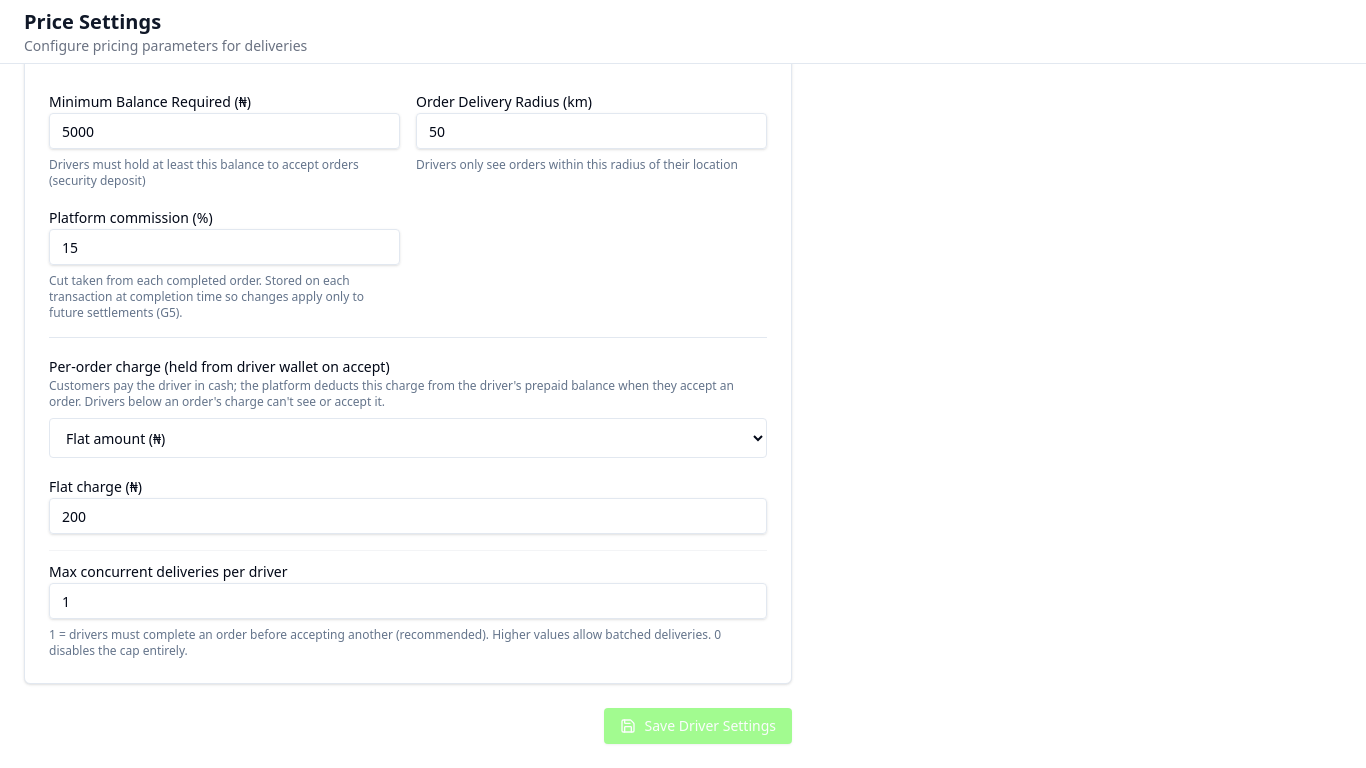
it: PriceSettingsPage — per-order driver charge › switches fields when the mode select changes
The width and height of the screenshot is (1366, 768).
(page scrolled)
Expected: the number field with test id "driver-charge-flat-input" is shown, x1=49 y1=498 x2=767 y2=534
Select "Percentage of order price (with cap)" in the dropdown with test id "driver-charge-mode-select": [408, 438] box x1=49 y1=418 x2=767 y2=458
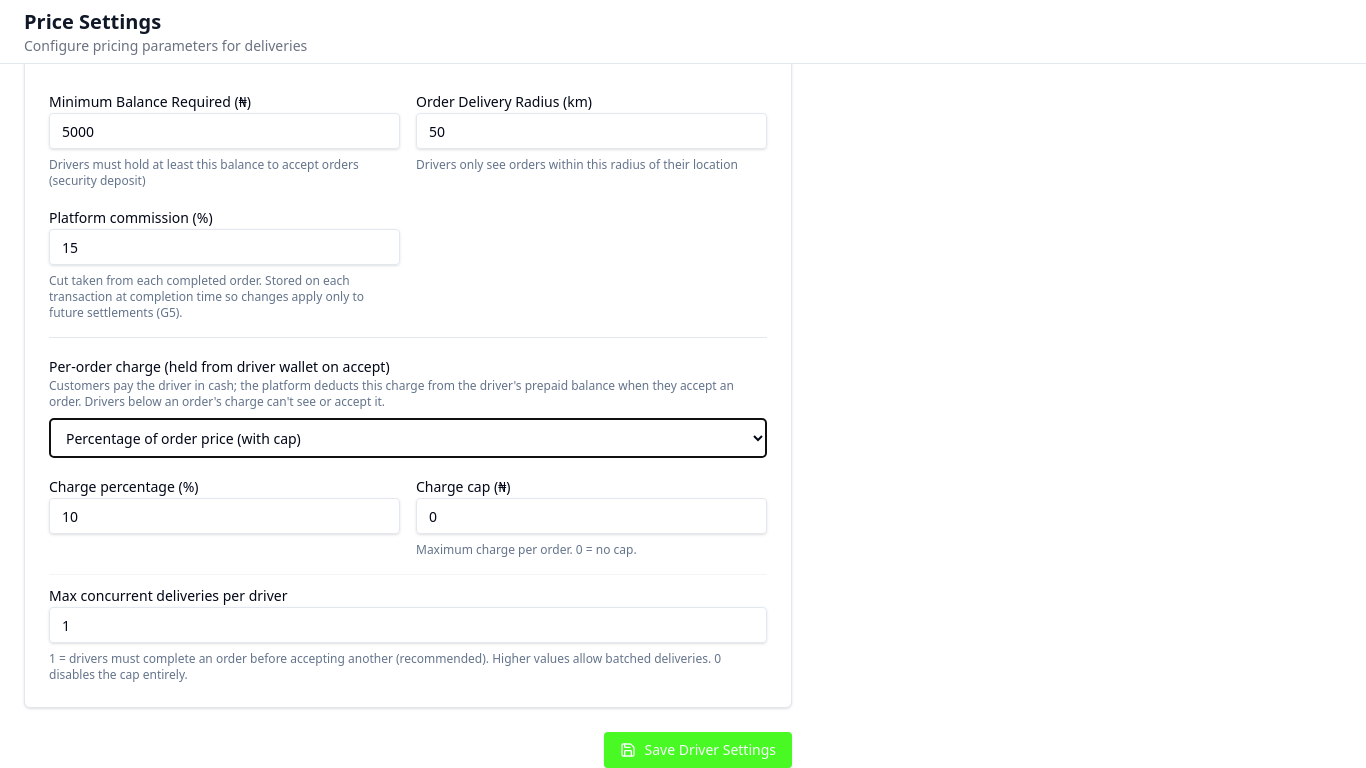
Result: the number field with test id "driver-charge-percentage-input" is shown at x1=49 y1=498 x2=400 y2=534
Result: the number field with test id "driver-charge-flat-input" is gone
